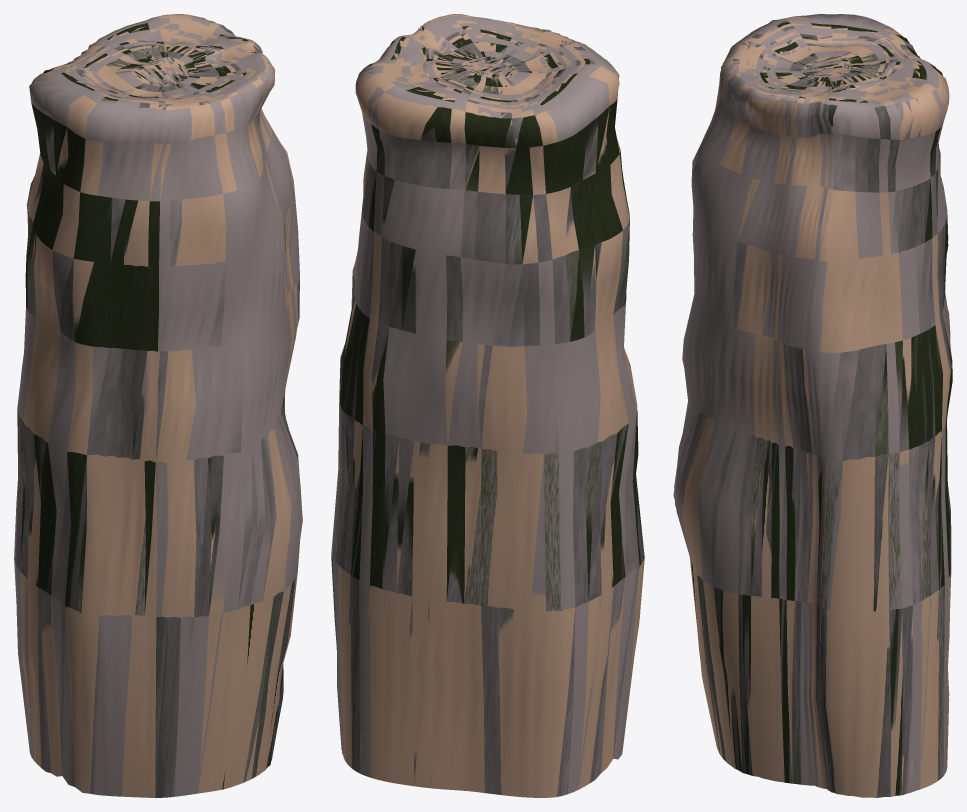
The model's file is SM_Island6_L.fbx.
3 views of the same model, side by side, from view 1: azimuth 30°, elevation 25°; view 2: azimuth 150°, elevation 25°; view 3: azimuth 270°, elevation 25° (orthographic).
Visible parts, largest first — view 1: Line008; view 2: Line008; view 3: Line008.
Part boxes in pixels (x1,y1,x2,y2): Line008: (14,14,302,797); Line008: (331,14,644,797); Line008: (673,14,952,797).
Size of the model in its own units: 1093 by 2782 by 1027.
